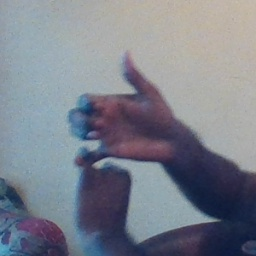S: (62, 47, 169, 214)
